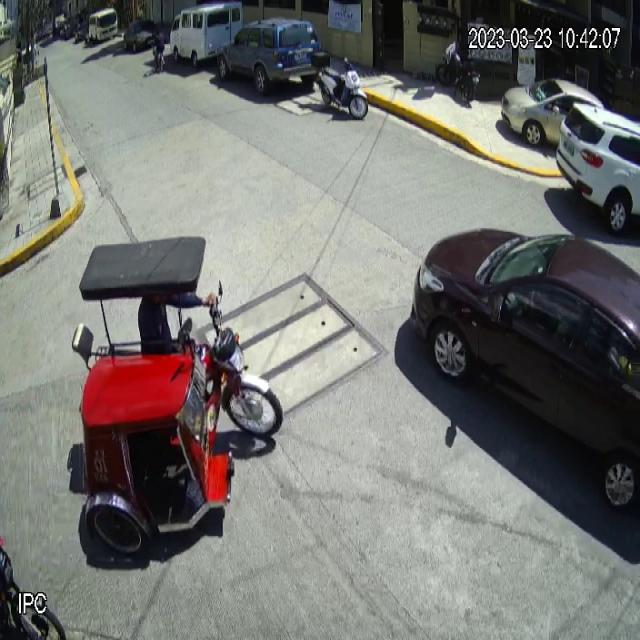Car: (412, 223, 640, 512), (216, 16, 323, 96), (501, 75, 603, 154)
Motorcycle: (312, 50, 368, 121)
Tricycle: (69, 233, 283, 565)
Van: (169, 0, 242, 69)
